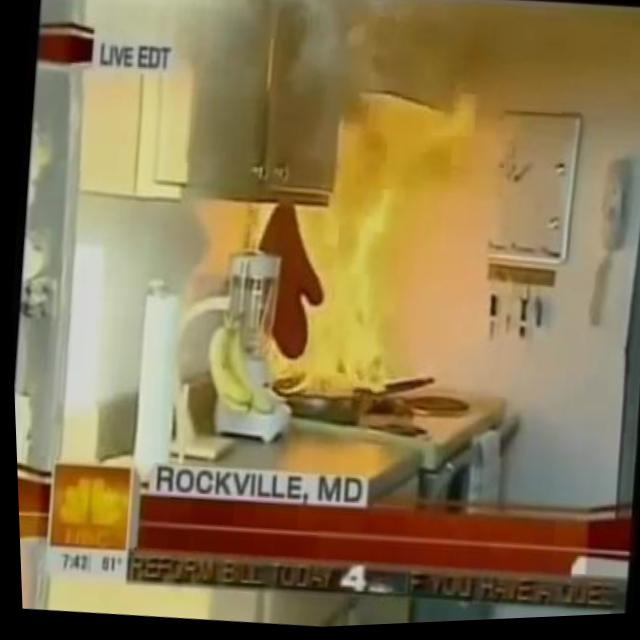fire: (232, 194, 409, 402), (329, 88, 485, 236)
